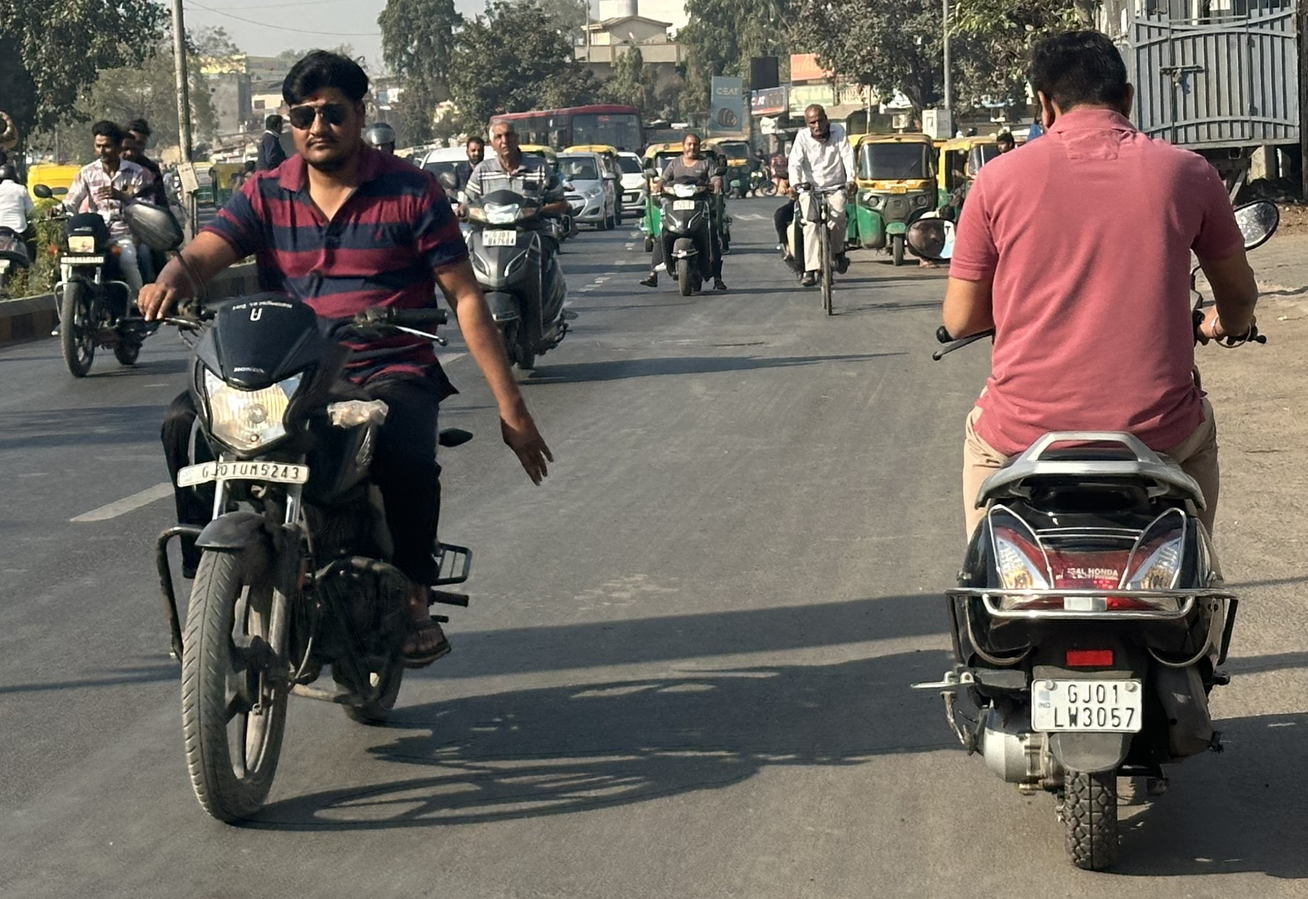BikeWithRider: (128, 43, 562, 834), (904, 19, 1284, 881), (42, 109, 193, 383), (442, 110, 585, 388), (770, 96, 863, 321), (638, 120, 738, 301)
NoHelmet: (1015, 21, 1146, 142), (272, 43, 384, 177), (85, 114, 131, 169), (484, 116, 528, 172), (798, 99, 835, 145), (679, 130, 708, 162)
